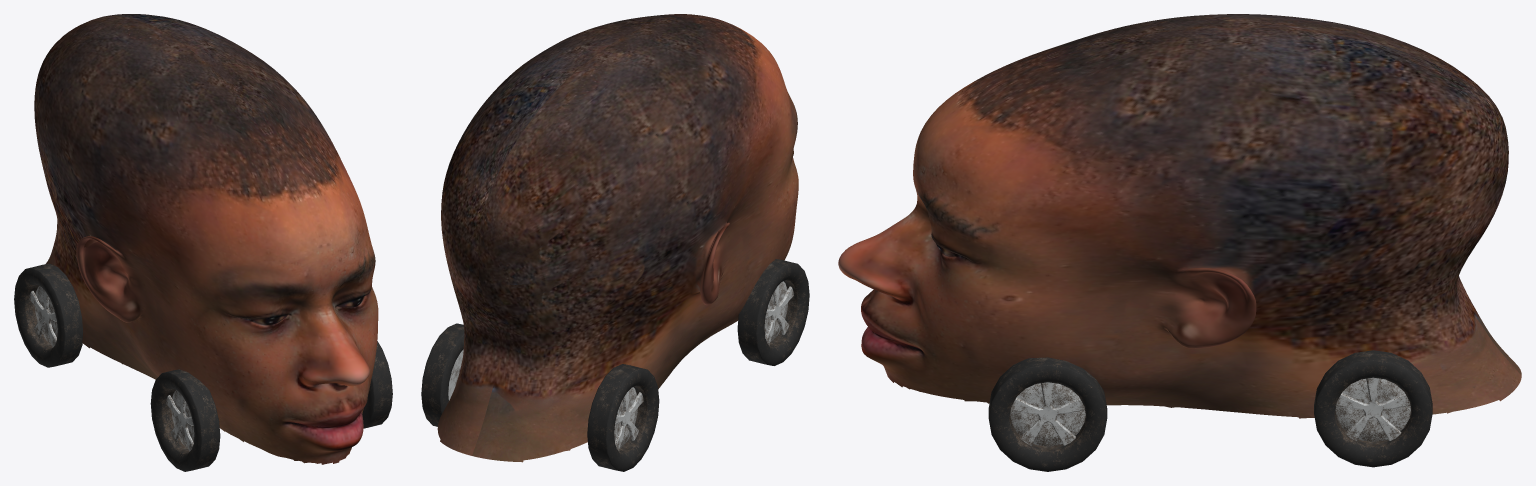
The model's file is dababy.glb.
3 views of the same model, side by side, from view 1: azimuth 30°, elevation 25°; view 2: azimuth 150°, elevation 25°; view 3: azimuth 270°, elevation 25° (orthographic). The views are drawn at different scales.
Visible parts, largest first — view 1: lesssgo_01:FaceBuilderHead, pTorus1 (×3), duplicated_06 (×2), pCylinder2 (×2); view 2: lesssgo_01:FaceBuilderHead, pTorus1 (×3), duplicated_06 (×2), pCylinder2 (×2); view 3: lesssgo_01:FaceBuilderHead, pTorus1 (×2), pCylinder2 (×2), duplicated_06 (×2).
Part boxes in pixels (x1=…): lesssgo_01:FaceBuilderHead: x1=34, y1=14, x2=378, y2=464; pTorus1 (×3): x1=14, y1=263, x2=392, y2=471; duplicated_06 (×2): x1=29, y1=289, x2=193, y2=451; pCylinder2 (×2): x1=35, y1=286, x2=194, y2=449; lesssgo_01:FaceBuilderHead: x1=437, y1=14, x2=798, y2=462; pTorus1 (×3): x1=421, y1=259, x2=809, y2=471; duplicated_06 (×2): x1=615, y1=284, x2=793, y2=450; pCylinder2 (×2): x1=614, y1=281, x2=787, y2=448; lesssgo_01:FaceBuilderHead: x1=838, y1=14, x2=1521, y2=418; pTorus1 (×2): x1=988, y1=350, x2=1432, y2=471; pCylinder2 (×2): x1=1010, y1=378, x2=1410, y2=446; duplicated_06 (×2): x1=1011, y1=377, x2=1410, y2=445.
Bounding box in the file's own units: 155 × 223 × 354.
Materials: 2 (2 with a texture image).
